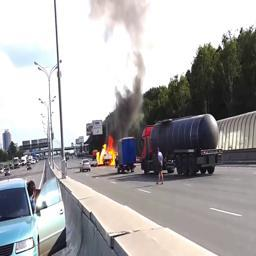fire: (97, 136, 117, 165)
